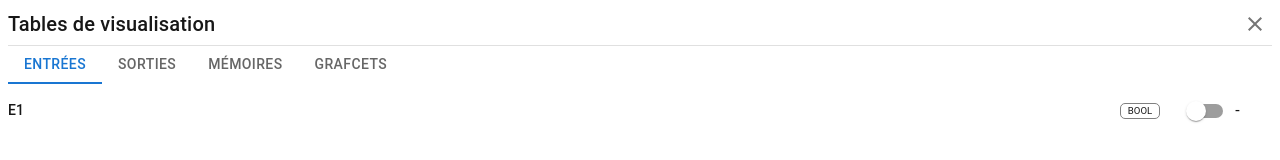
Test: WatchTables › switches to the output variables tab
Click the tab "Sorties" at coordinates (147, 70), box [102, 54, 192, 86]
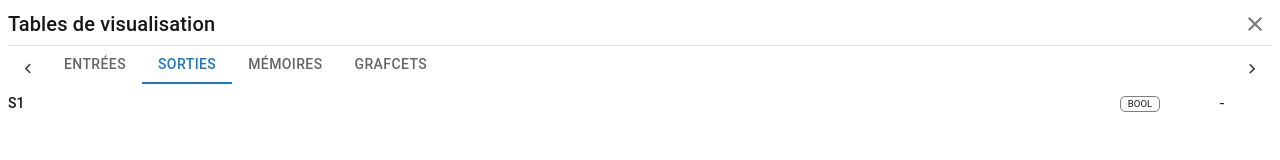
Now the heading "S1" is shown, box [8, 95, 25, 111]
Now the heading "E1" is gone
